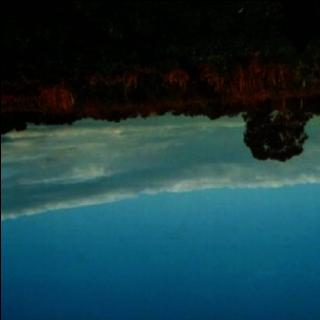Stratocumulus: (0, 110, 320, 320)
